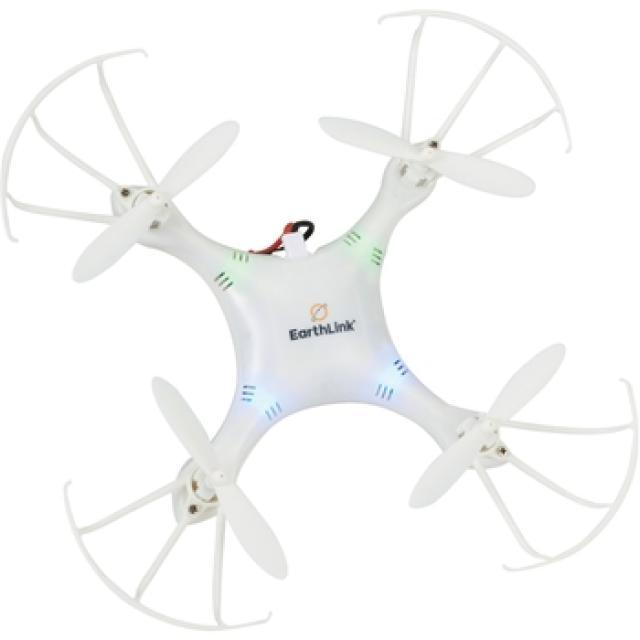drones: (10, 22, 626, 610)
